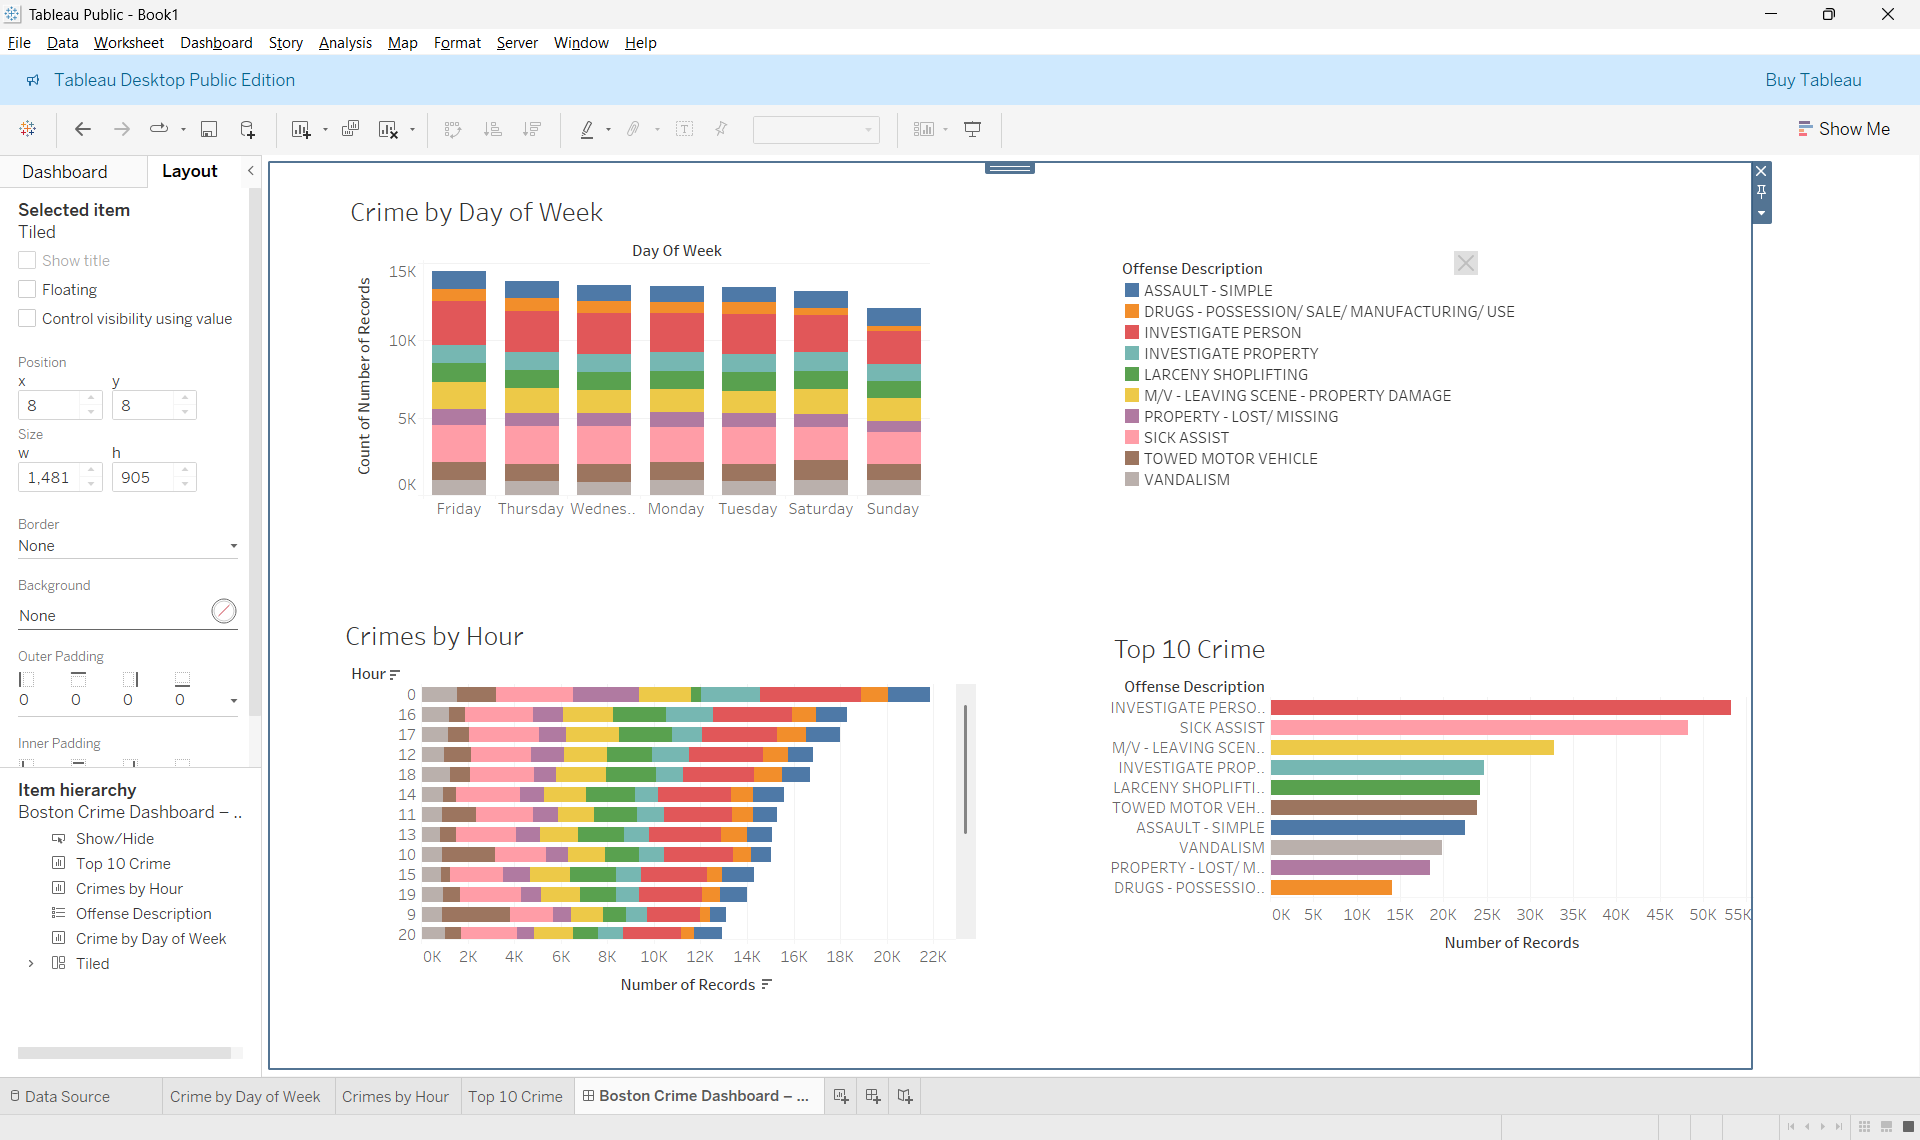

The page's visual inventory and layout, read from the dashboard file:
{"tool":"tableau","page":{"name":"Boston Crime Dashboard – 2023 ","canvas":[1000,1000],"units":"permille","ordinal":0},"visuals":[{"type":"worksheet","title":"Crime by Day of Week","mark":"Automatic","rows":["Calculation_1714464092716007424"],"cols":["DAY_OF_WEEK"],"box":[50.7,38,352.4,358.3]},{"type":"dashboard-object","box":[719.4,104.2,14.5,26.1]},{"type":"legend","title":"Crime by Day of Week","param":"[federated.1hu7pnn01lpwn118tqds90h0o7wk].[none:OFFENSE_DESCRIPTION:nk]","box":[519,111.8,248.6,288.8]},{"type":"worksheet","title":"Crimes by Hour","mark":"Automatic","rows":["HOUR"],"cols":["Calculation_1714464092716007424"],"box":[47.7,498.4,383.2,421.3]},{"type":"worksheet","title":"Top 10 Crime","mark":"Automatic","rows":["OFFENSE_DESCRIPTION"],"cols":["Calculation_1714464092716007424"],"box":[511.8,512.5,388.7,419.1]}]}

Visuals, with their boxes on the dashboard's canvas, which has no fixed pixel size, in thousandths of its width and height (x1, y1, x2, y2). These are canvas units, not pixel positions in the 1920x1140 screenshot, which may show the page scaled, cropped or inside an application window:
"Crime by Day of Week" worksheet: pyautogui.locateOnScreen(51, 38, 403, 396)
dashboard-object: pyautogui.locateOnScreen(719, 104, 734, 130)
"Crime by Day of Week" legend: pyautogui.locateOnScreen(519, 112, 768, 401)
"Crimes by Hour" worksheet: pyautogui.locateOnScreen(48, 498, 431, 920)
"Top 10 Crime" worksheet: pyautogui.locateOnScreen(512, 512, 900, 932)
